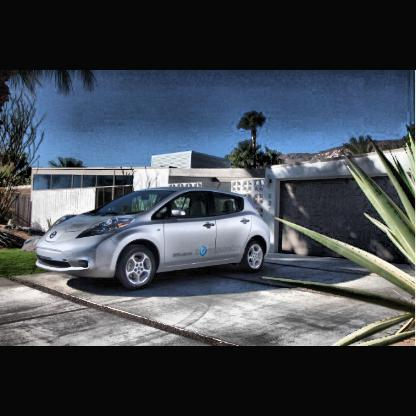Nissan Leaf Hatchback 2012: (37, 188, 272, 293)
